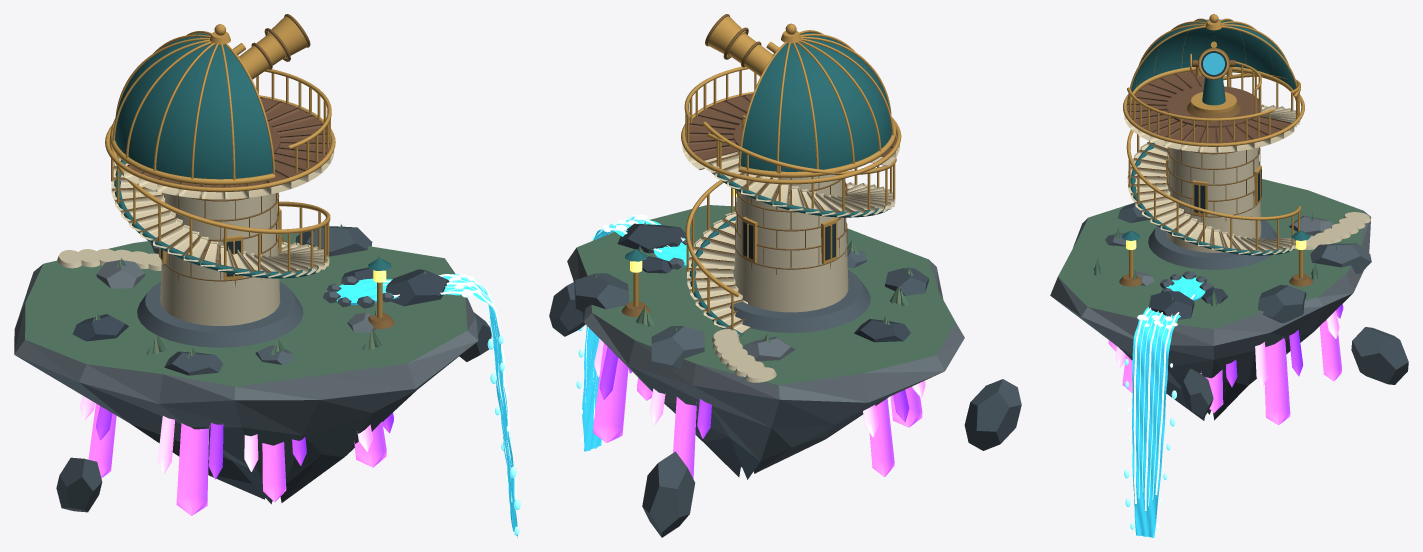
Rendered from demo-floating-observatory.glb.
3 renders of one model, left to right at view 1: azimuth 30°, elevation 25°; view 2: azimuth 150°, elevation 25°; view 3: azimuth 270°, elevation 25°, orthographic. The views are drawn at different scales.
Parts seen in each view (by area): view 1: Mesh_MeadowCrown, Mesh_PatinatedCopperHalfDome, Mesh_CragBelt_3, Mesh_MasonryCore, Mesh_CragBelt_2, Mesh_CragBelt_1, Mesh_Foundation, Mesh_AmethystMain_1, Mesh_CragBelt_0, Mesh_ContinuousWaterCurtain, Mesh_DriftingSatellite_1, Mesh_TerraceBrassRim (+17 smaller); view 2: Mesh_MeadowCrown, Mesh_PatinatedCopperHalfDome, Mesh_MasonryCore, Mesh_CragBelt_3, Mesh_CragBelt_2, Mesh_CragBelt_1, Mesh_Foundation, Mesh_DriftingSatellite_2, Mesh_DriftingSatellite_1, Mesh_ContinuousWaterCurtain, Mesh_AmethystMain_5, Mesh_RimStone_2 (+17 smaller); view 3: Mesh_MeadowCrown, Mesh_ContinuousWaterCurtain, Mesh_MasonryCore, Mesh_CragBelt_3, Mesh_PatinatedCopperHalfDome, Mesh_CragBelt_2, Mesh_DriftingSatellite_2, Mesh_Foundation, Mesh_CragBelt_1, Mesh_AmethystMain_5, Mesh_TerraceDaisSurface, Mesh_RimStone_5 (+19 smaller).
Boxes of the visible parts, bbox=[...] form: Mesh_MeadowCrown: bbox=[25, 233, 467, 386]; Mesh_PatinatedCopperHalfDome: bbox=[115, 33, 272, 179]; Mesh_CragBelt_3: bbox=[14, 260, 478, 403]; Mesh_MasonryCore: bbox=[160, 193, 280, 325]; Mesh_CragBelt_2: bbox=[15, 344, 473, 435]; Mesh_CragBelt_1: bbox=[131, 390, 416, 474]; Mesh_Foundation: bbox=[137, 281, 303, 347]; Mesh_AmethystMain_1: bbox=[176, 423, 209, 515]; Mesh_CragBelt_0: bbox=[208, 454, 343, 504]; Mesh_ContinuousWaterCurtain: bbox=[361, 274, 517, 537]; Mesh_DriftingSatellite_1: bbox=[56, 457, 102, 512]; Mesh_TerraceBrassRim: bbox=[105, 95, 335, 192]; Mesh_MeadowCrown: bbox=[576, 205, 955, 385]; Mesh_PatinatedCopperHalfDome: bbox=[741, 32, 891, 171]; Mesh_MasonryCore: bbox=[734, 174, 848, 312]; Mesh_CragBelt_3: bbox=[567, 248, 964, 402]; Mesh_CragBelt_2: bbox=[586, 325, 941, 427]; Mesh_CragBelt_1: bbox=[664, 397, 888, 461]; Mesh_Foundation: bbox=[729, 270, 870, 332]; Mesh_DriftingSatellite_2: bbox=[642, 451, 695, 537]; Mesh_DriftingSatellite_1: bbox=[964, 379, 1021, 450]; Mesh_ContinuousWaterCurtain: bbox=[582, 217, 694, 451]; Mesh_AmethystMain_5: bbox=[593, 343, 628, 442]; Mesh_RimStone_2: bbox=[651, 326, 704, 369]; Mesh_MeadowCrown: bbox=[1058, 179, 1363, 328]; Mesh_ContinuousWaterCurtain: bbox=[1132, 285, 1200, 537]; Mesh_MasonryCore: bbox=[1166, 148, 1261, 252]; Mesh_CragBelt_3: bbox=[1050, 211, 1371, 345]; Mesh_PatinatedCopperHalfDome: bbox=[1131, 19, 1296, 92]; Mesh_CragBelt_2: bbox=[1054, 293, 1352, 366]; Mesh_DriftingSatellite_2: bbox=[1351, 327, 1408, 384]; Mesh_Foundation: bbox=[1148, 220, 1276, 269]; Mesh_CragBelt_1: bbox=[1119, 332, 1313, 392]; Mesh_AmethystMain_5: bbox=[1264, 338, 1290, 425]; Mesh_TerraceDaisSurface: bbox=[1166, 86, 1261, 127]; Mesh_RimStone_5: bbox=[1258, 285, 1306, 322].
Size of the model in its own units: 9.76 by 11.04 by 8.44.
